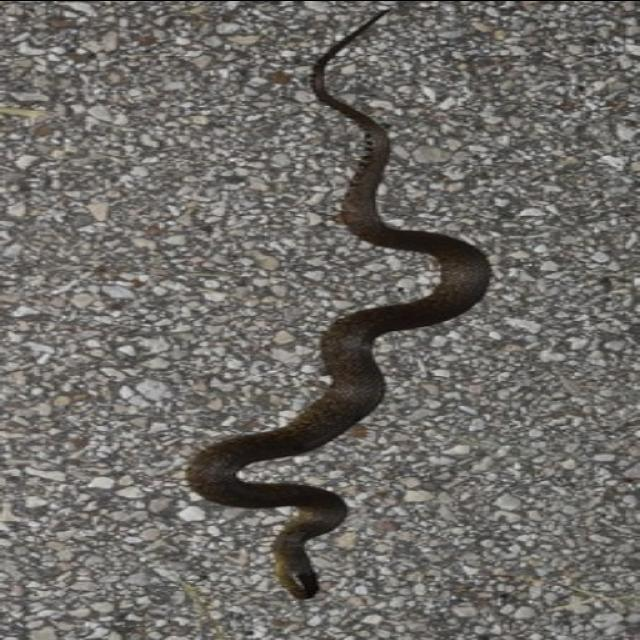snake: (174, 8, 502, 614)
